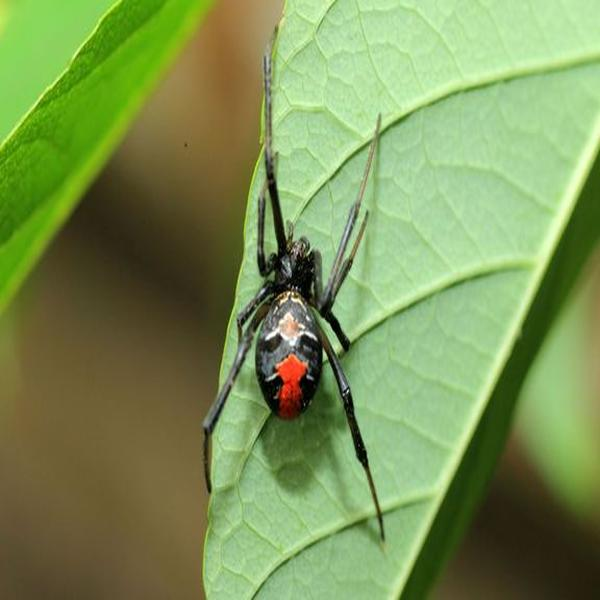Redback Spider: (203, 26, 391, 544)
